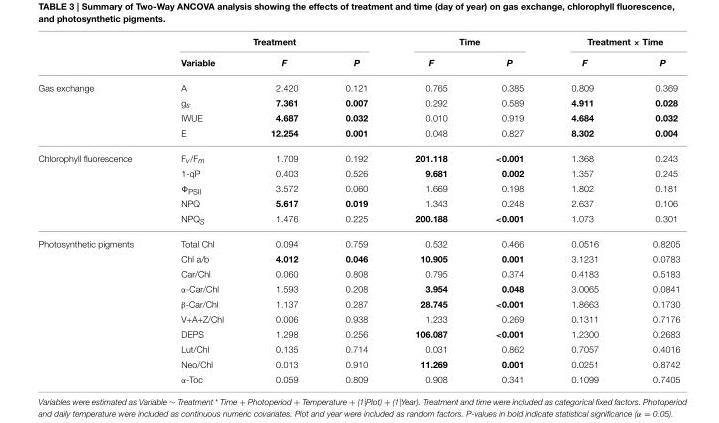table: (37, 37, 679, 383)
table column: (37, 37, 156, 383), (156, 37, 246, 383), (390, 37, 470, 383), (546, 37, 624, 383), (470, 37, 546, 383), (246, 37, 321, 383), (321, 37, 390, 383), (624, 37, 679, 383)
table column header: (37, 37, 679, 75)
table row: (37, 52, 679, 75), (37, 145, 679, 166), (37, 211, 679, 232), (37, 75, 679, 95), (37, 125, 679, 145), (37, 232, 679, 251), (37, 180, 679, 197), (37, 95, 679, 111), (37, 37, 679, 52), (37, 251, 679, 266), (37, 266, 679, 281), (37, 281, 679, 296), (37, 296, 679, 311), (37, 311, 679, 326), (37, 326, 679, 341), (37, 341, 679, 356), (37, 356, 679, 371), (37, 111, 679, 125), (37, 166, 679, 180), (37, 197, 679, 211), (37, 371, 679, 383)
table spanning cell: (37, 232, 156, 383), (37, 145, 156, 232), (37, 75, 156, 145), (156, 37, 390, 52), (390, 37, 546, 52), (546, 37, 679, 52)
